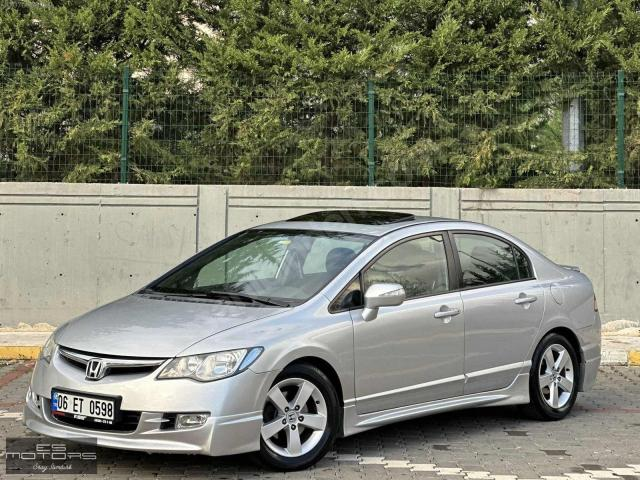plaka: (51, 389, 121, 425)
